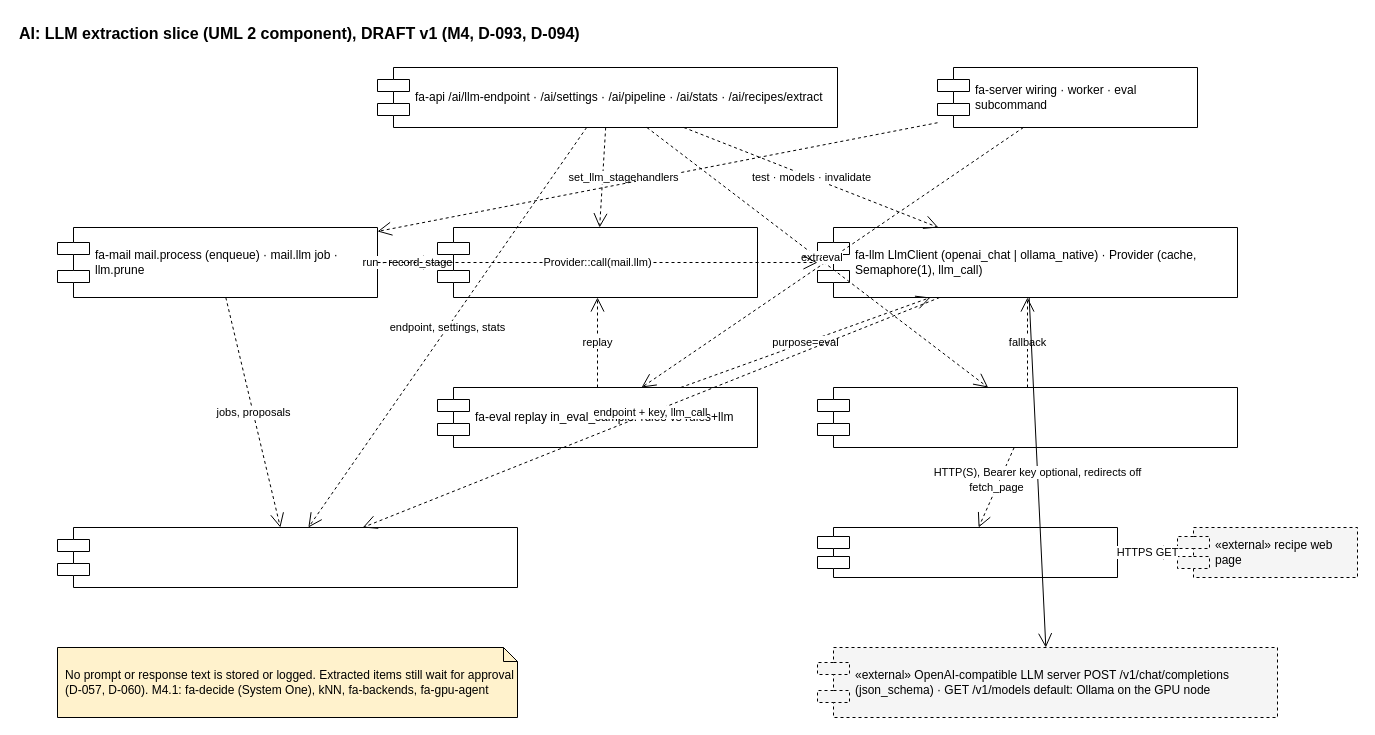
The diagram is 1375 pixels wide and 735 high, and some of its shapes have lost their labels. Here are the shapes that lost their labels. From the top down, the centre of each, then its label:
At (597,262): "fa-pipeline pending_llm · record_stage · set_llm_stage".
At (1027,417): "fa-recipe from_html (JSON-LD) · from_llm · fetch_page · RecipeDraft".
At (287,557): "fa-store llm_endpoint · ai_settings · llm_call · extracted_by · decision".
At (967,552): "fa-connectors Http (private hosts blocked)".
